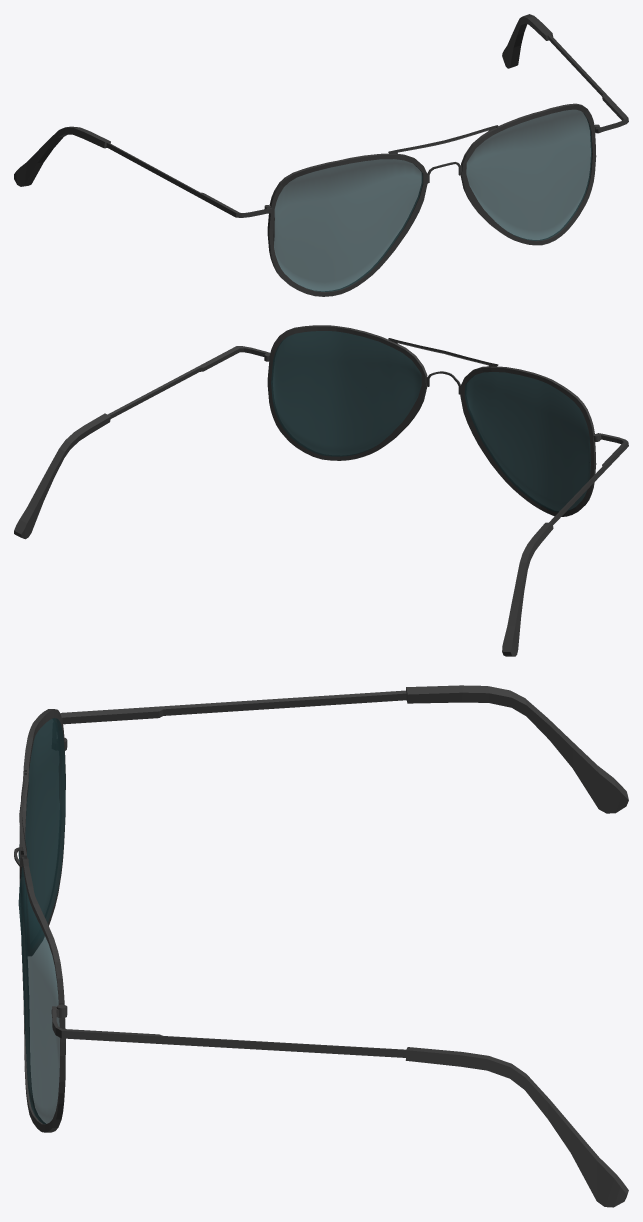
Rendered from Hat_Aviators-Face.fbx.
The picture shows the model from 3 angles, top to bottom: view 1: azimuth 30°, elevation 25°; view 2: azimuth 150°, elevation 25°; view 3: azimuth 270°, elevation 25°; orthographic projection. The views are drawn at different scales.
Parts seen in each view (by area): view 1: Aviators; view 2: Aviators; view 3: Aviators.
Part boxes in pixels (x1,y1,x2,y2): Aviators: (14,14,628,296); Aviators: (14,325,628,656); Aviators: (14,685,628,1207).
Bounding box in the file's own units: 314 × 80.78 × 202.
